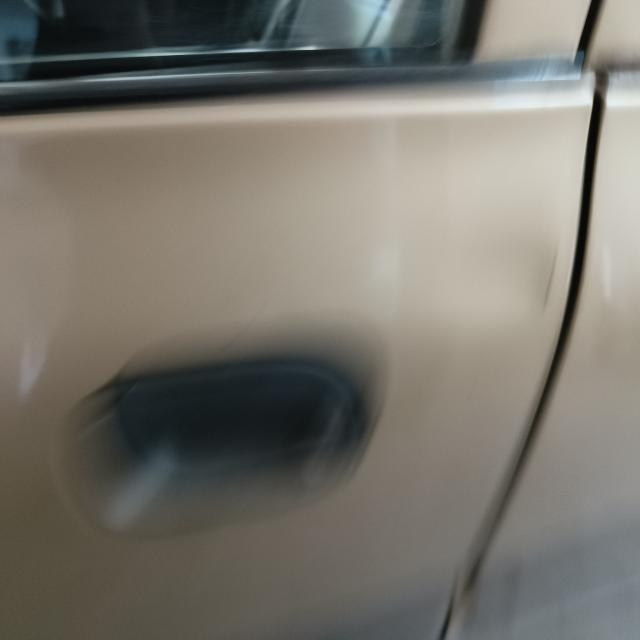scratch: (529, 232, 565, 315)
